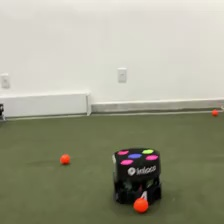ball: (131, 194, 151, 214), (58, 151, 71, 165), (210, 107, 219, 116)
goal: (1, 90, 94, 117)
robot: (110, 145, 164, 206)
